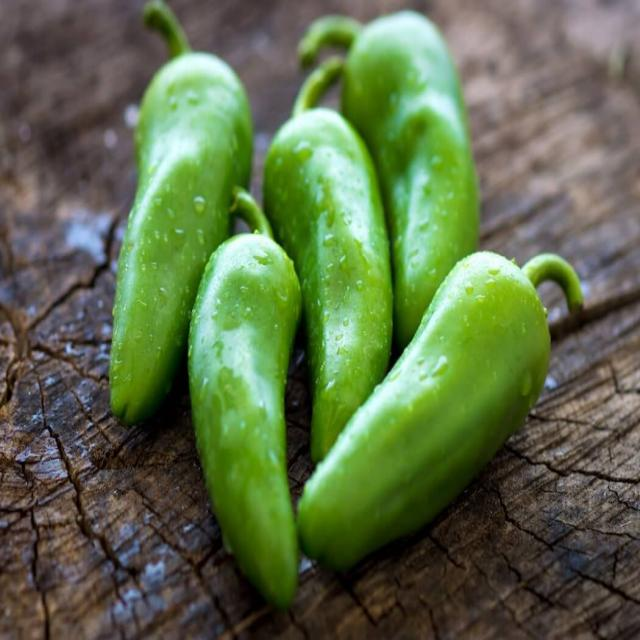aji: (92, 6, 560, 596)
